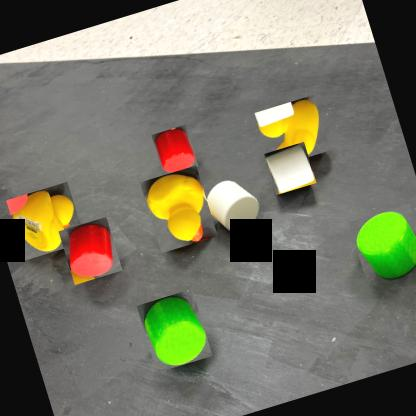duck: (140, 165, 218, 252), (6, 181, 85, 260), (254, 94, 330, 167)
green cylinder: (136, 288, 212, 372), (348, 203, 416, 287)
red cylinder: (58, 216, 122, 284), (151, 124, 198, 176)
white cylinder: (200, 172, 266, 239), (263, 141, 316, 195)
